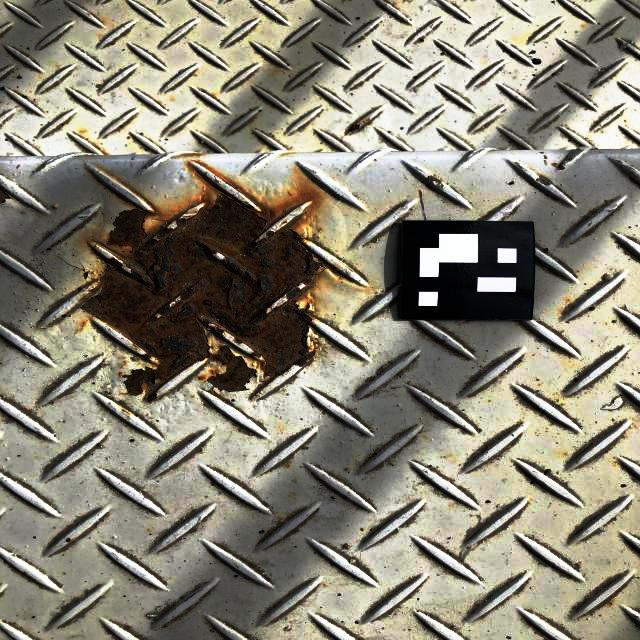Corrosion: (82, 165, 321, 403), (347, 118, 373, 134), (540, 176, 556, 191), (0, 187, 10, 205), (424, 175, 441, 184)
